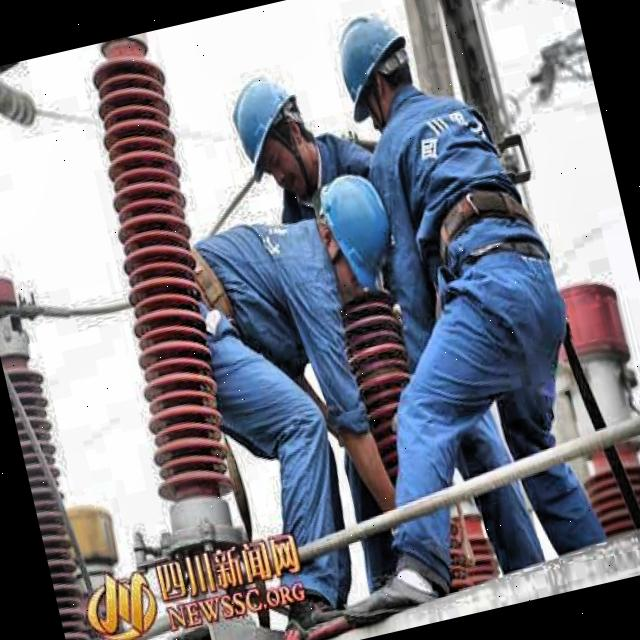helmet: (212, 53, 335, 220), (300, 158, 412, 314), (314, 0, 430, 147)
